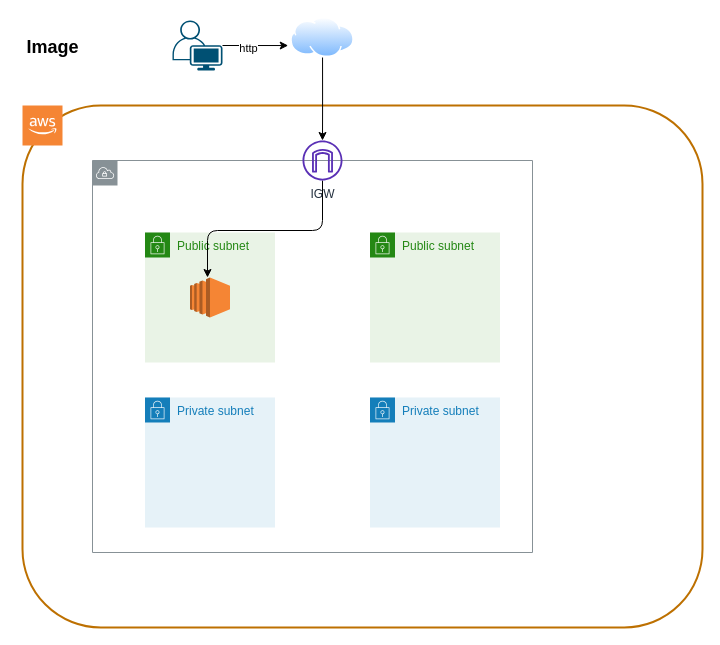
This 720x645 diagram has some shape labels left out. The box of each missing label's shape, as (x1, y1, x2, y2) in pixels:
EC2: (189, 276, 230, 318)
user: (172, 20, 222, 70)
VPC: (92, 160, 532, 552)
